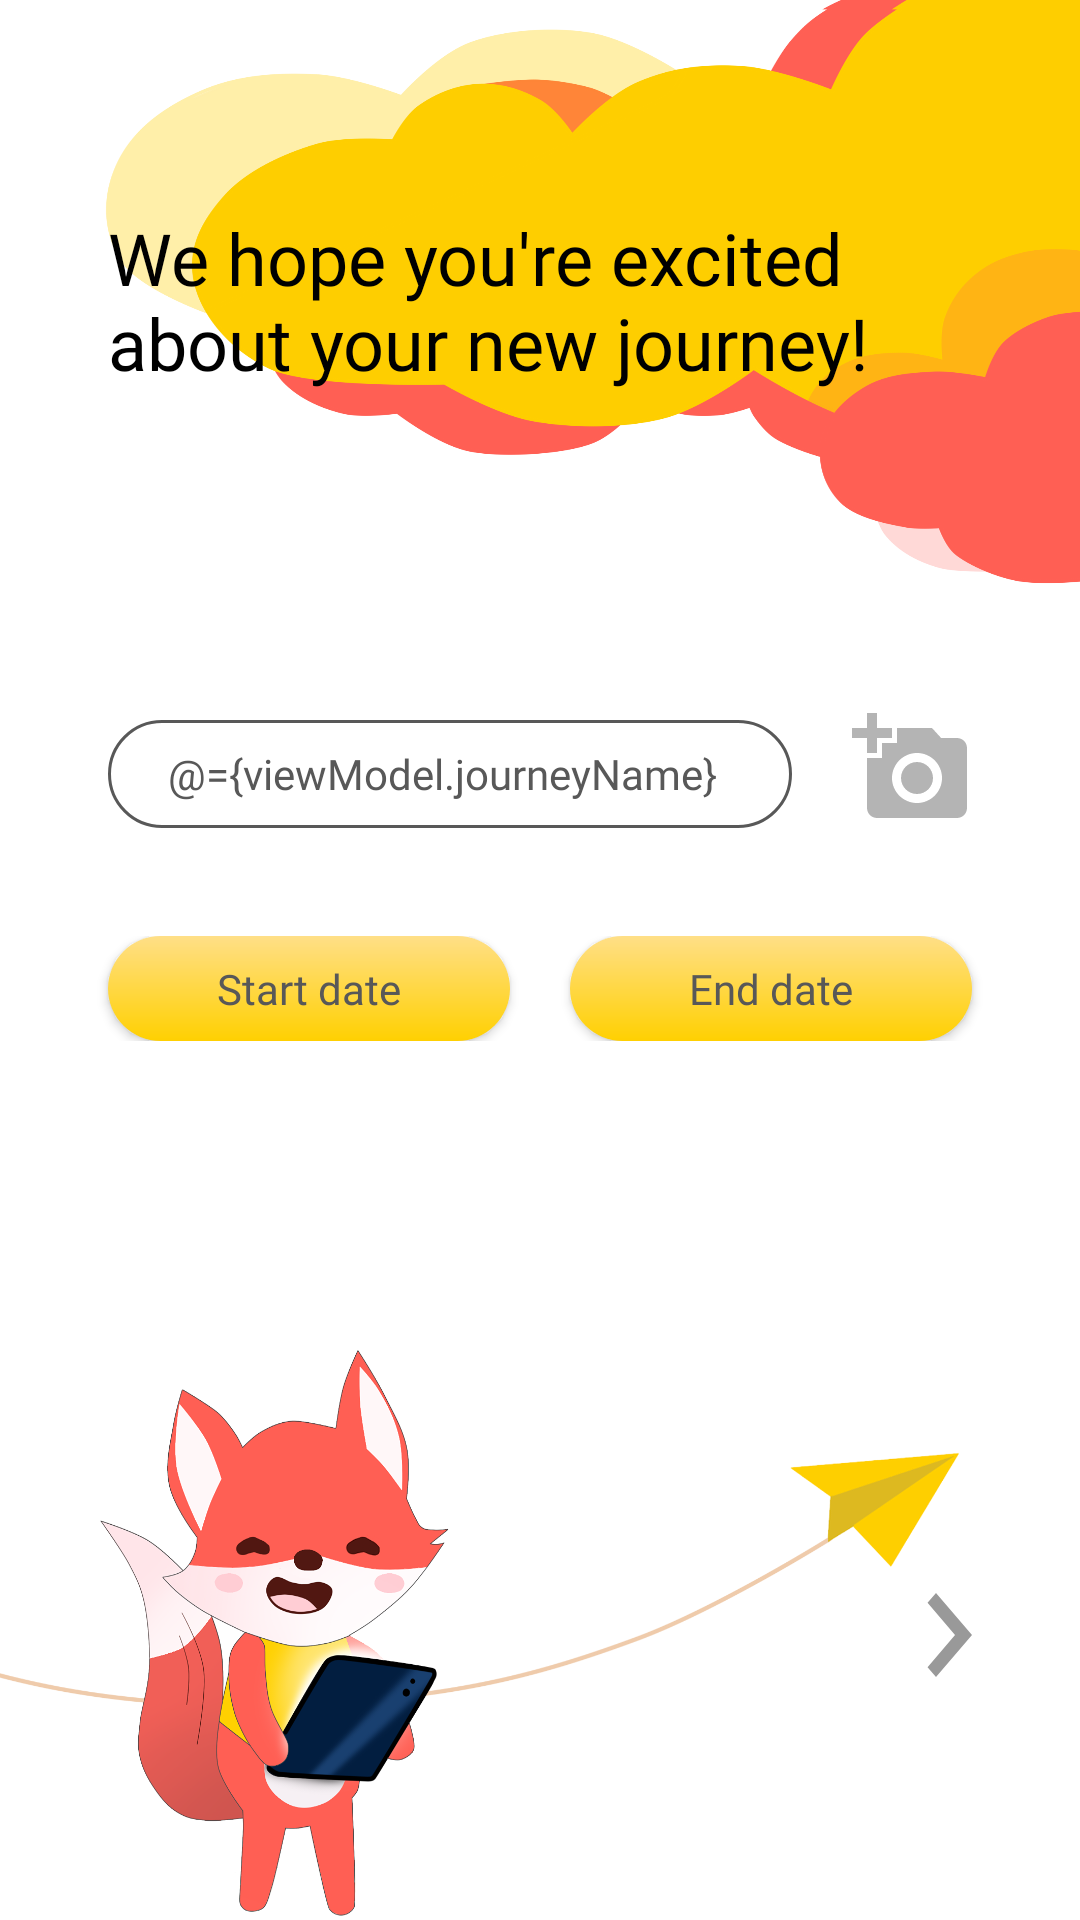

Icon bounding boxes for this 1080 × 1920 phone screenshot, format (x1, y1, x2, y2):
add photo: (852, 713, 967, 818)
navigate next: (928, 1593, 972, 1677)
